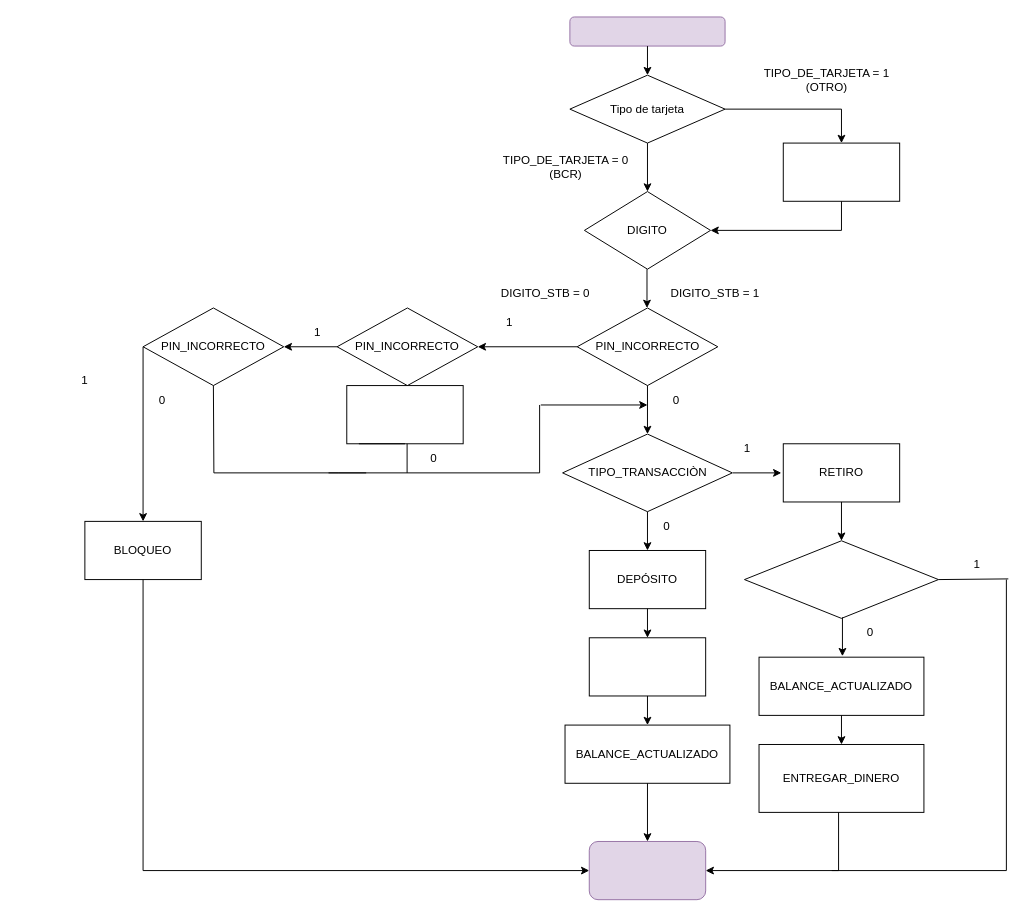
Image size: 1026x917. Some labels were removed from this diagram. The shapes that lost their labels are listed below. From the top down, each one's centre as x and y in pixels, then its label:
At [647,31]: "Ingreso de Tarjeta".
At [841,171]: "COMISIÓN".
At [404,414]: "ADVERTENCIA".
At [841,579]: "FONDOS_INSUFICIENTES".
At [647,666]: "SUMA EN EL BALANCE".
At [647,870]: "RESET".
